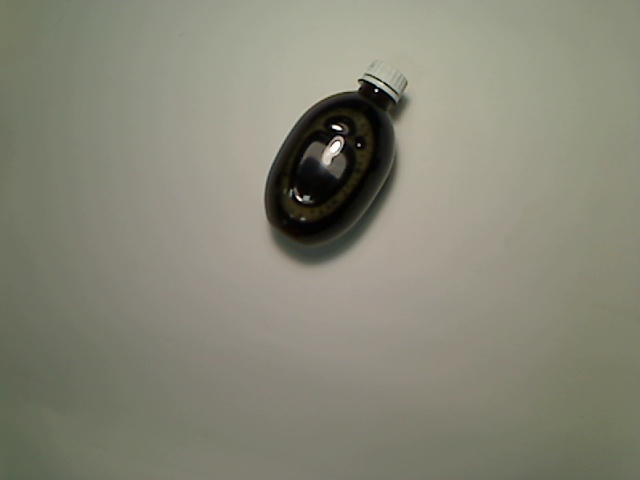plast_bottle: (263, 59, 410, 250)
